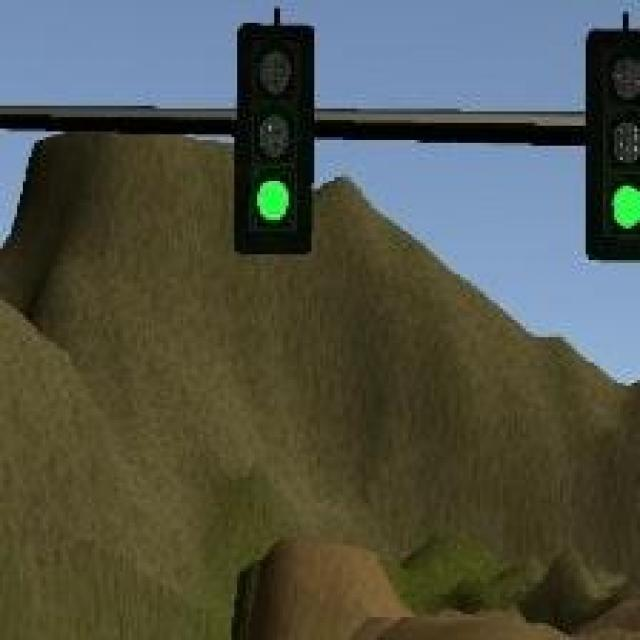green_light: (243, 29, 308, 255), (585, 26, 640, 263)
